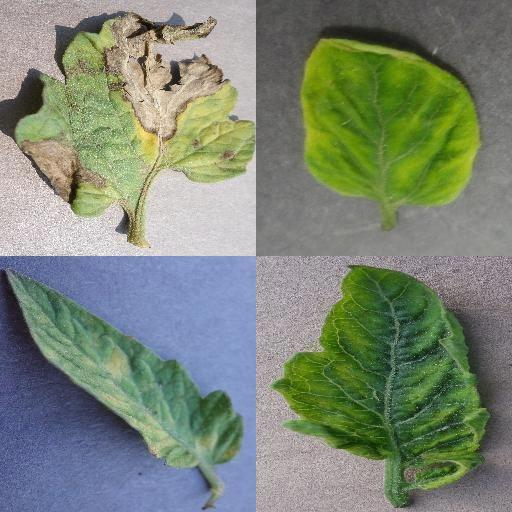Late Blight: (13, 12, 256, 219)
Leaf Mold: (4, 266, 244, 470)
Yellow Leaf Curl Virus: (272, 264, 490, 490), (303, 37, 483, 205)
